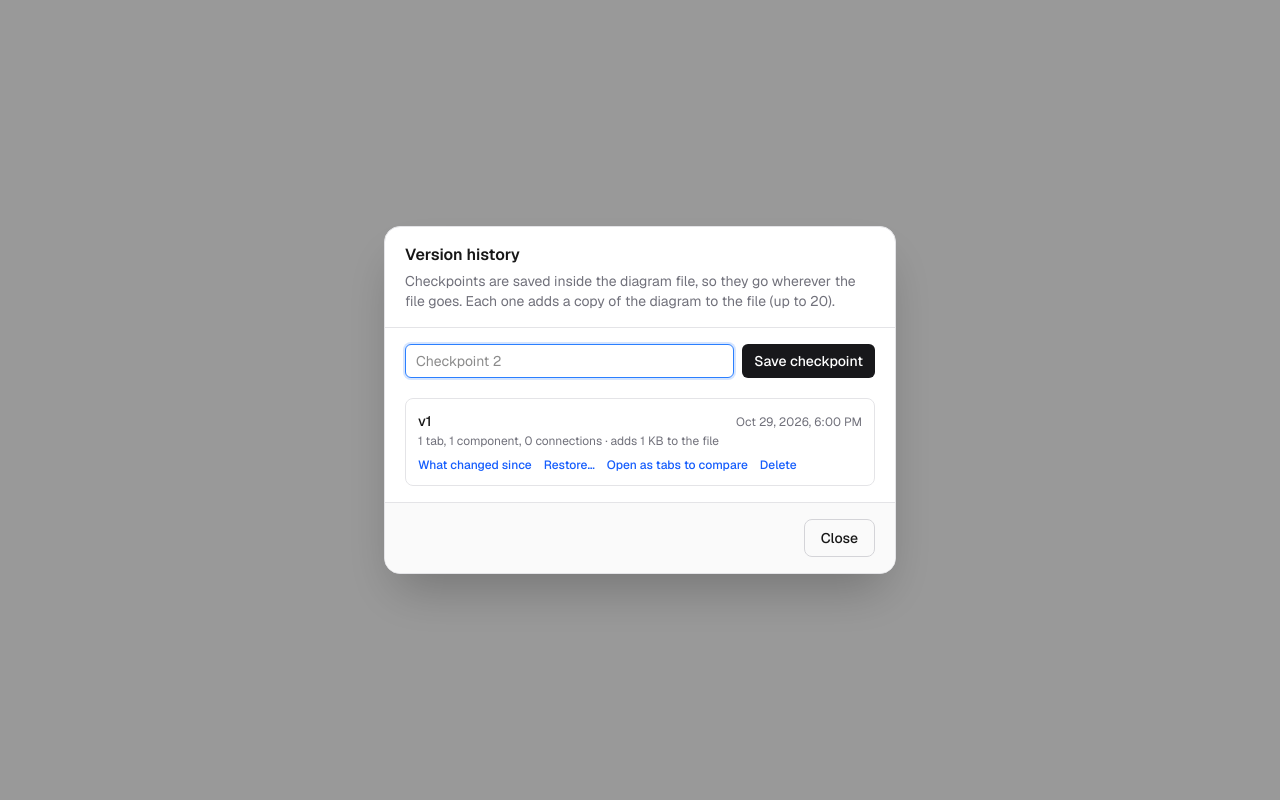
Test: HistoryDialog › shows what changed since a checkpoint without adding tabs, and comes back
Click the button "What changed since" at (475, 465), box top-left (418, 457), bottom-right (532, 473)
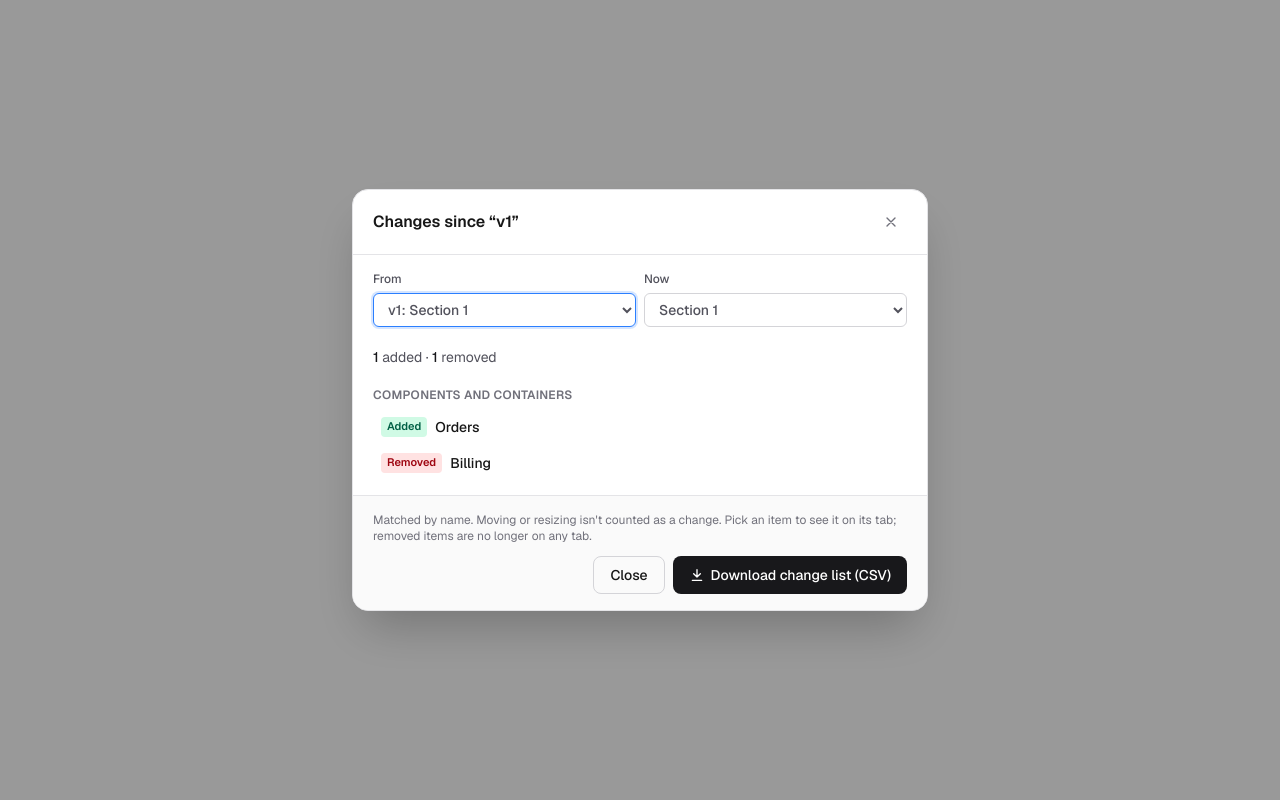
Result: the text "Orders" is shown at top-left (435, 417), bottom-right (480, 437)
Result: the text "Billing" is shown at top-left (450, 453), bottom-right (491, 473)
Click the button "Close" at (629, 575), box top-left (593, 556), bottom-right (665, 594)
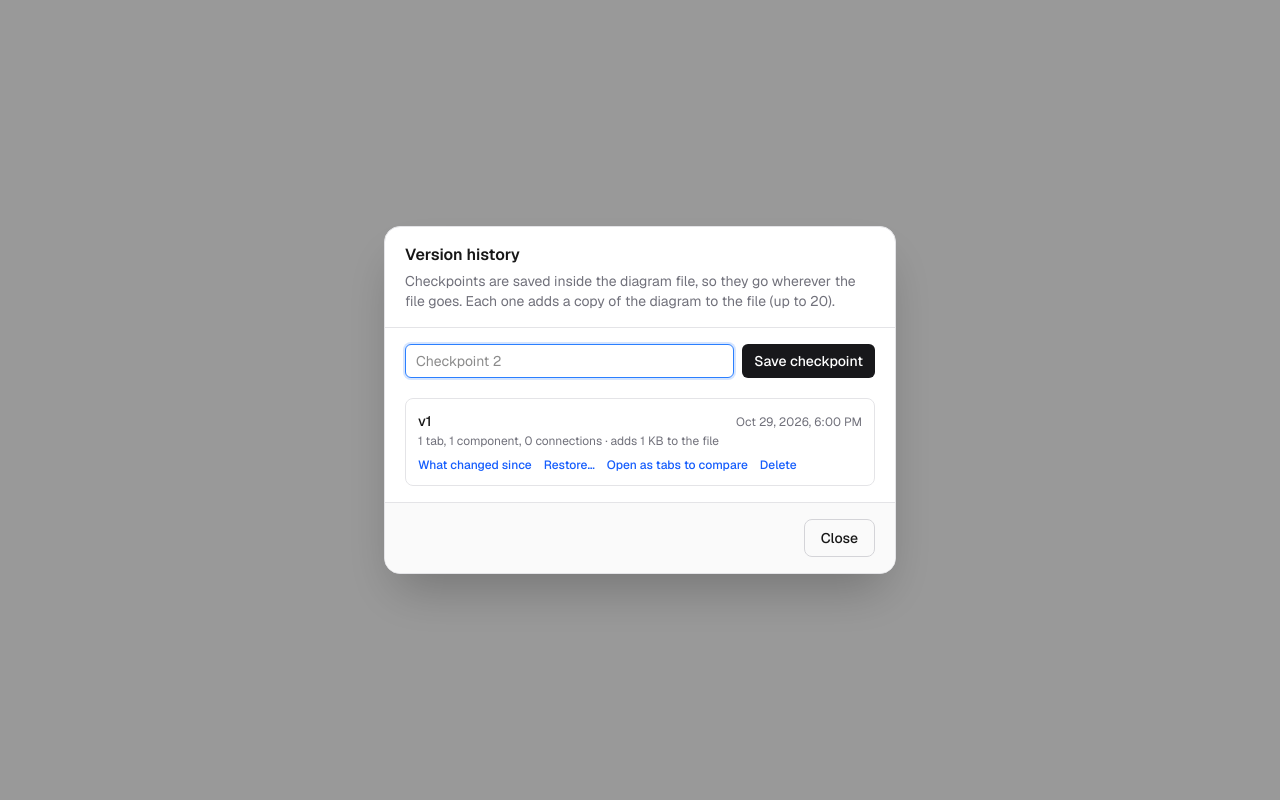
Result: the heading "Version history" is shown at top-left (405, 244), bottom-right (520, 265)
